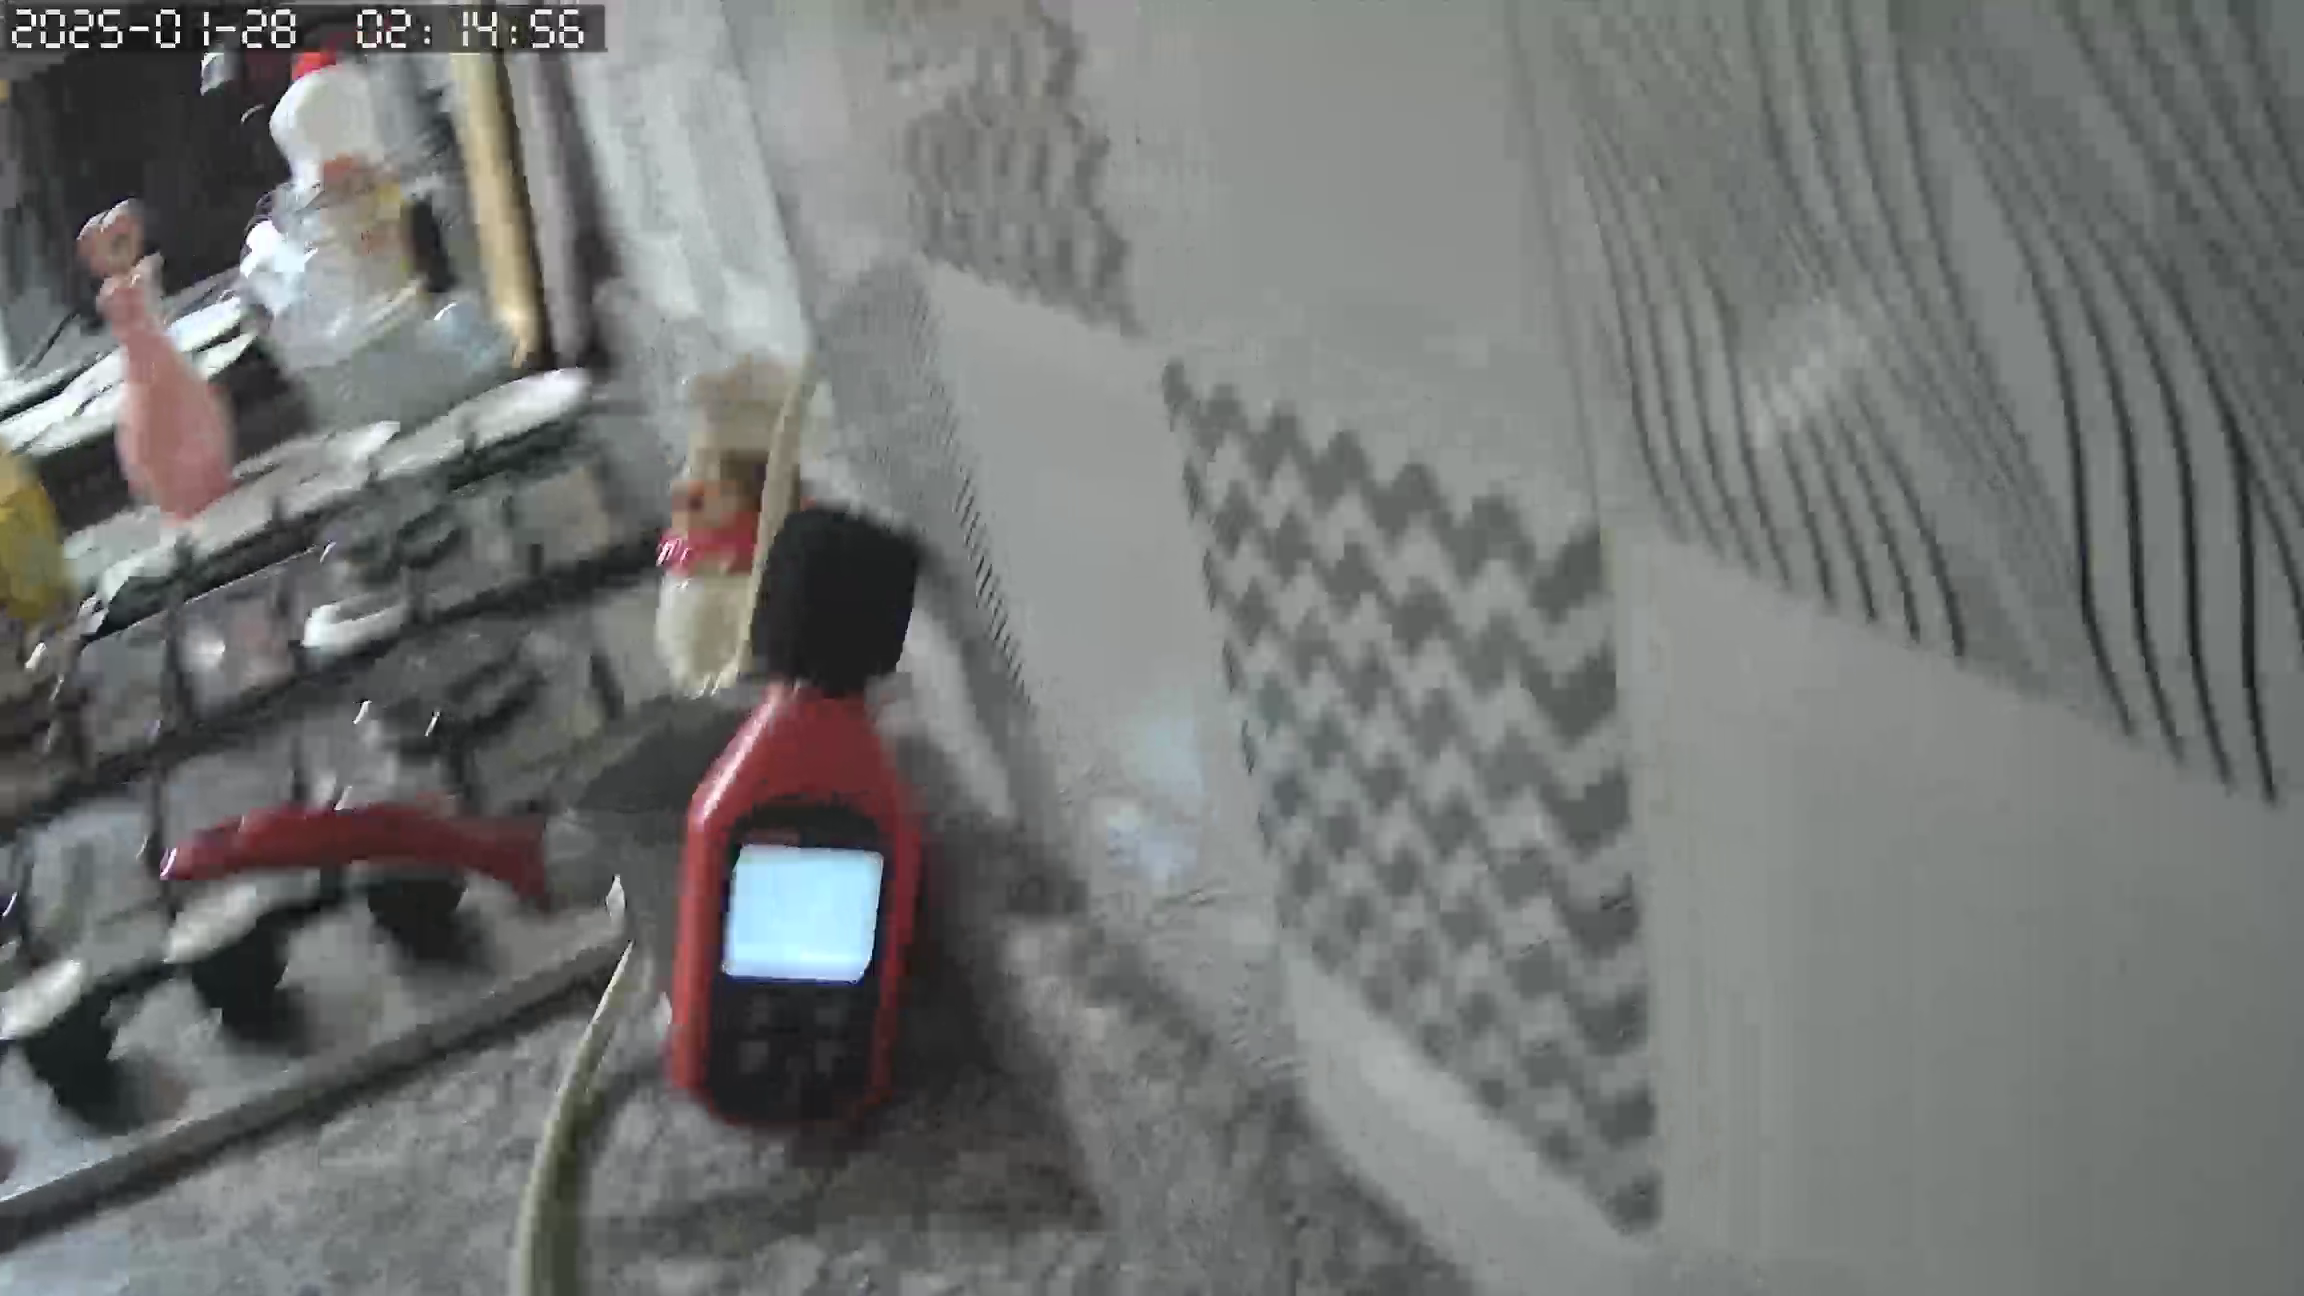screen: (723, 843, 888, 983)
